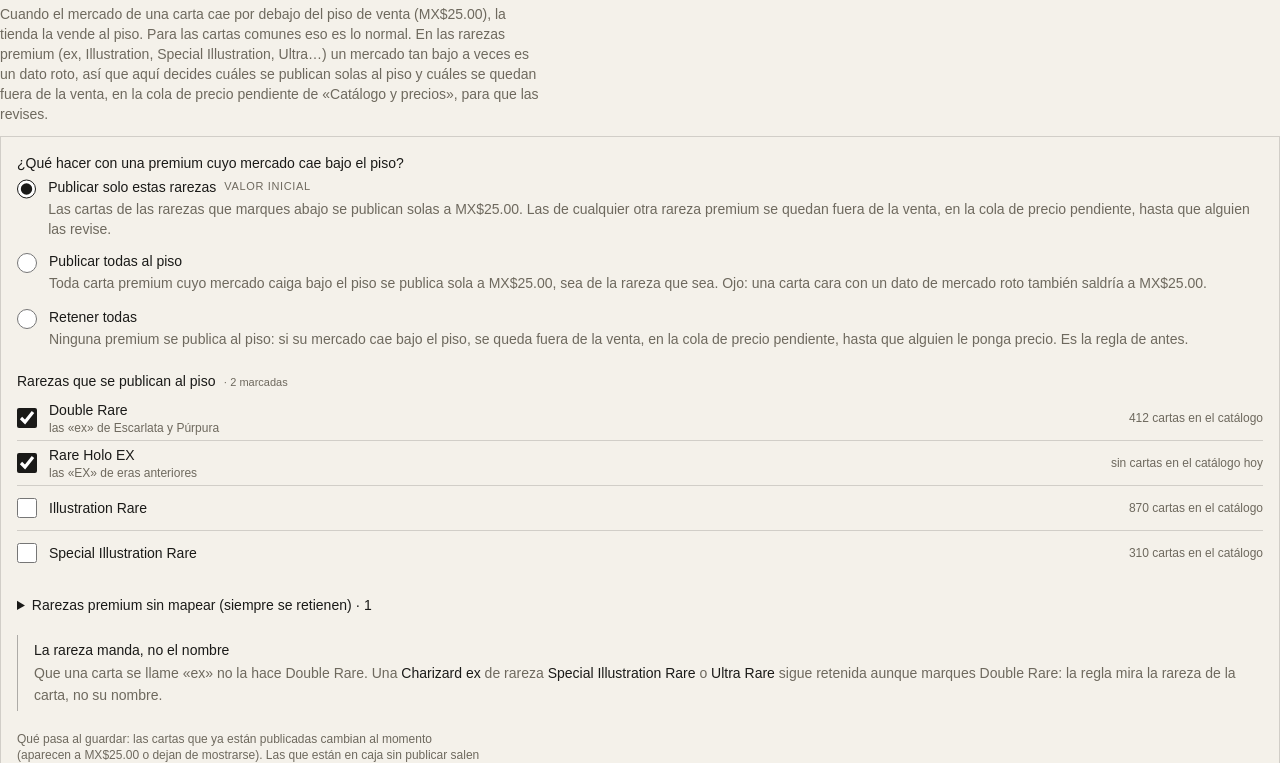
Test: §39.1 · premium en el piso (venta) › `422 VALIDATION_ERROR` ⇒ «Nada cambió» + el diagnóstico `details.errors.premiumFloorSalePublish`
The width and height of the screenshot is (1280, 763).
Expected: the radio button labelled "Publicar solo estas rarezas" is checked, 17,179 -> 36,199
Click the radio button labelled "Retener todas": (27, 319) 17,309 -> 37,329
(page scrolled)
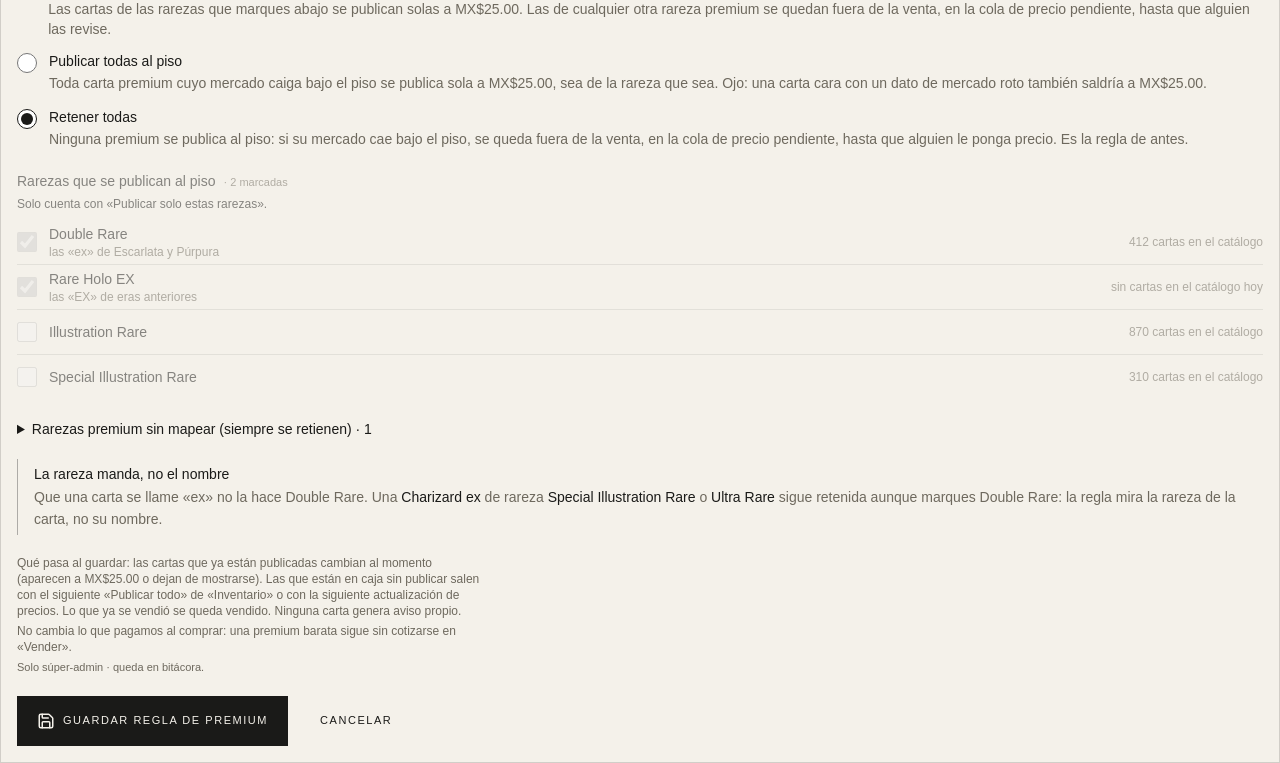
Click the button "Guardar regla de premium": (152, 720) 17,696 -> 288,746
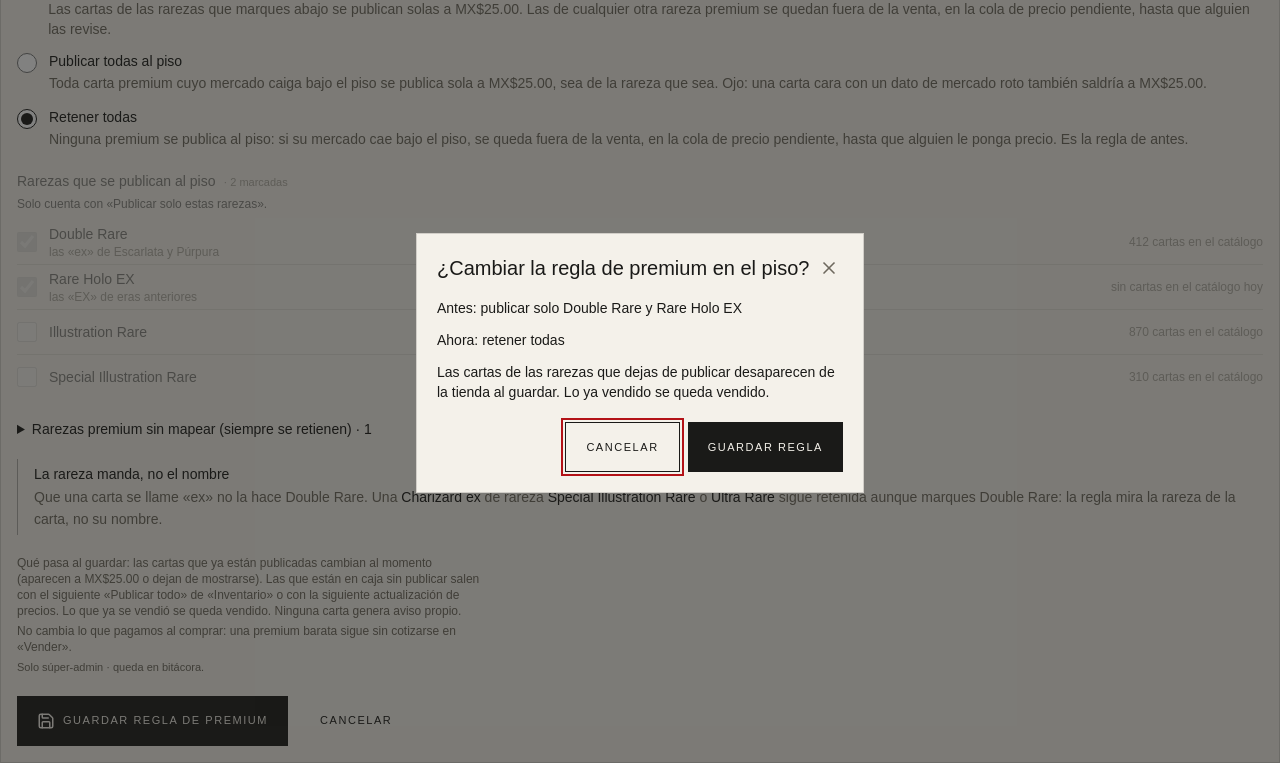
Expected: the dialog shows "desaparecen de la tienda al guardar", 437,364 -> 835,400
Click the button "Guardar regla": (765, 447) 688,422 -> 843,472
(page scrolled)
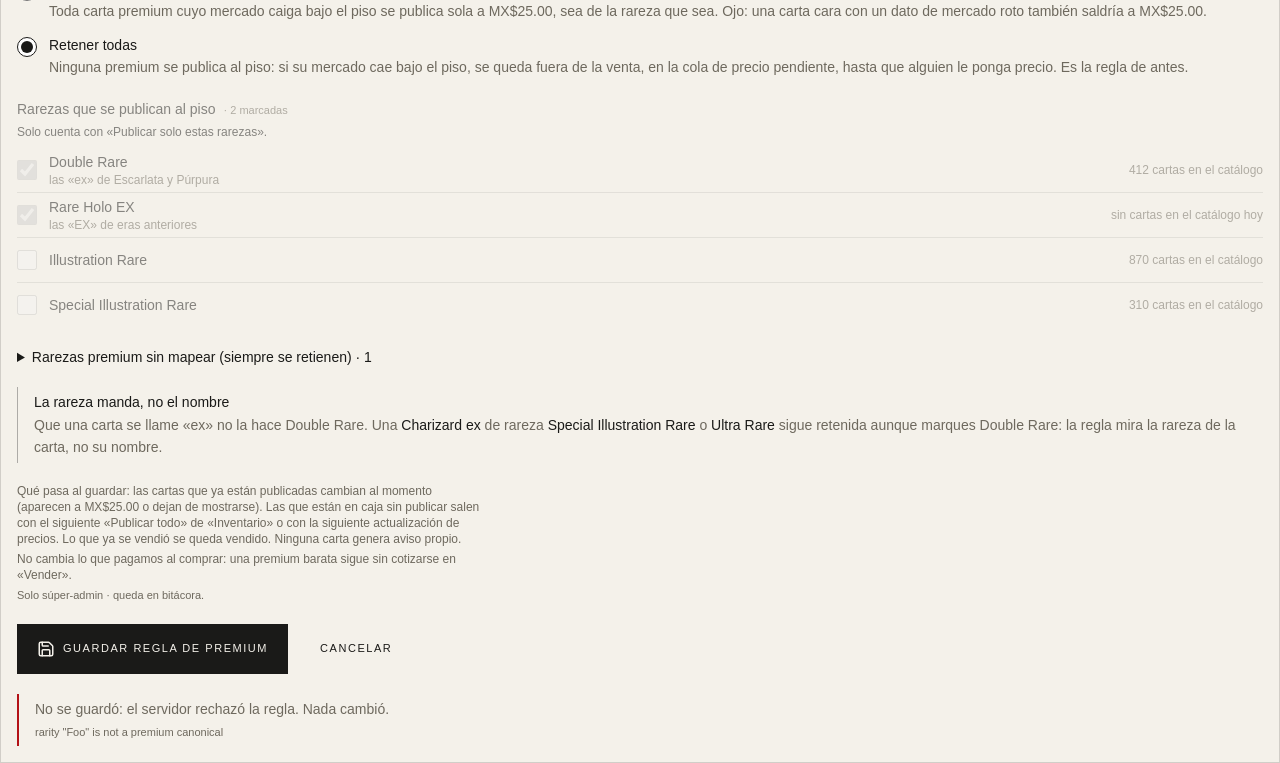
Expected: the 2nd message shows "No se guardó: el servidor rechazó la regla. Nada cambió.", 35,700 -> 389,716
Expected: the 2nd message shows "rarity \"Foo\" is not a premium canonical", 35,726 -> 223,738
